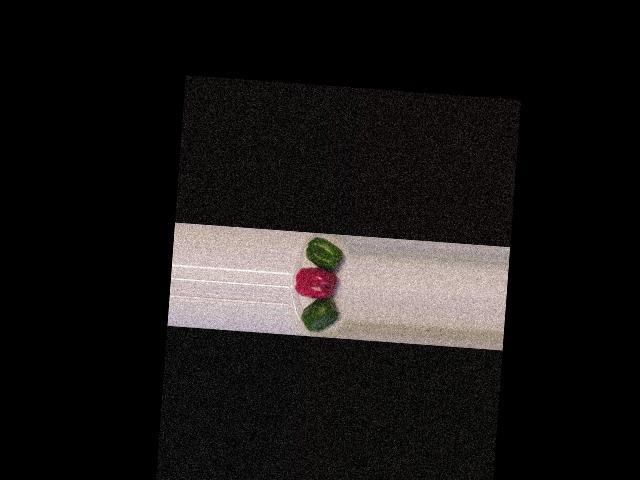bell_pepper: (295, 295, 343, 335)
